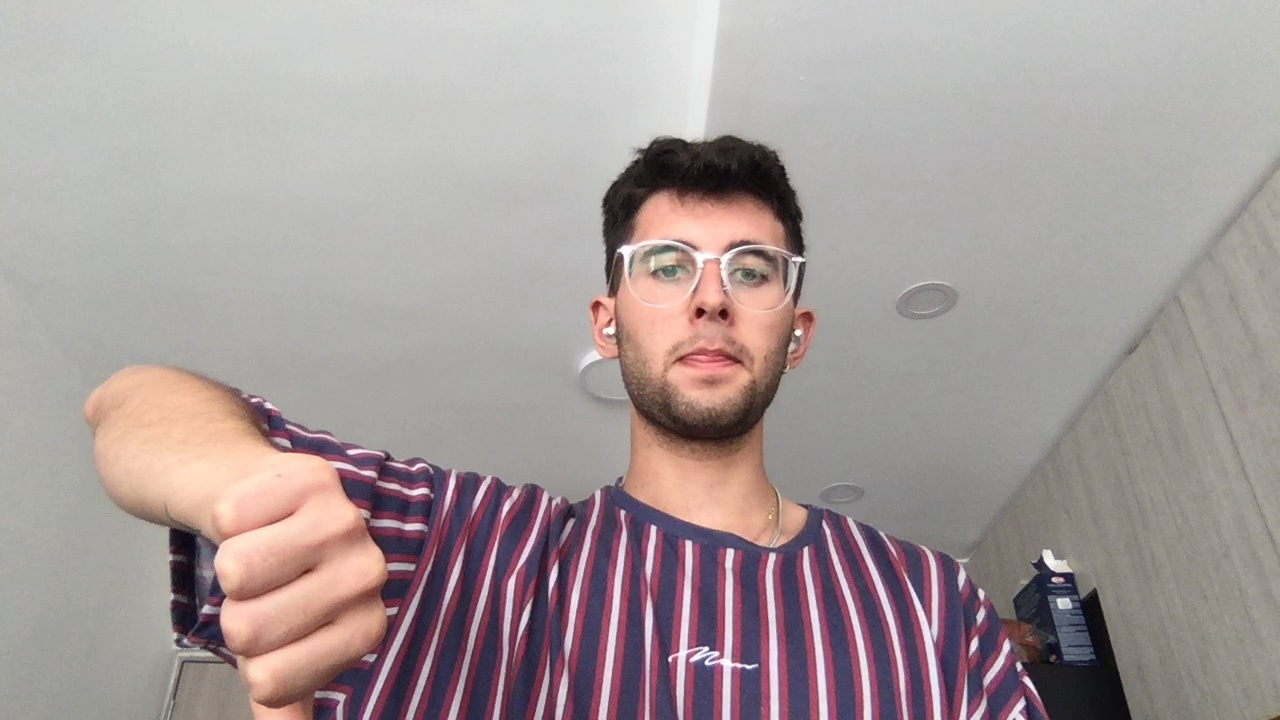bad: (185, 449, 406, 720)
